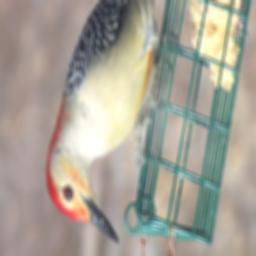Woodpecker: (46, 0, 173, 244)
